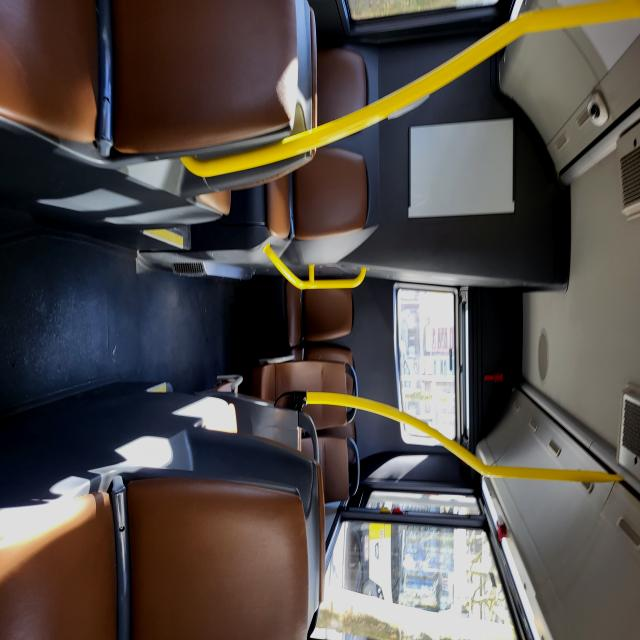asiento-libre: (517, 441, 640, 640), (161, 454, 276, 640), (270, 361, 340, 502), (424, 375, 484, 520), (192, 362, 262, 437), (368, 381, 420, 477), (486, 374, 539, 456), (418, 381, 436, 470), (301, 544, 323, 609)
